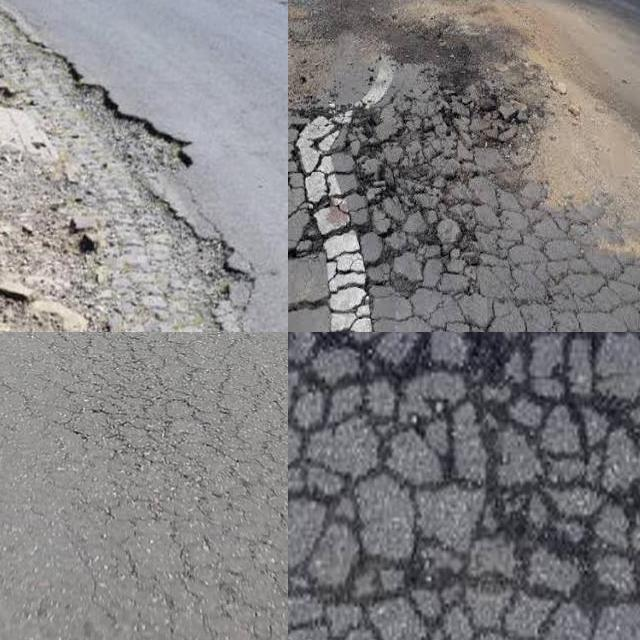Pinggir: (0, 0, 259, 332)
Retak Buaya: (288, 332, 640, 640), (33, 332, 288, 640), (323, 159, 640, 332)
